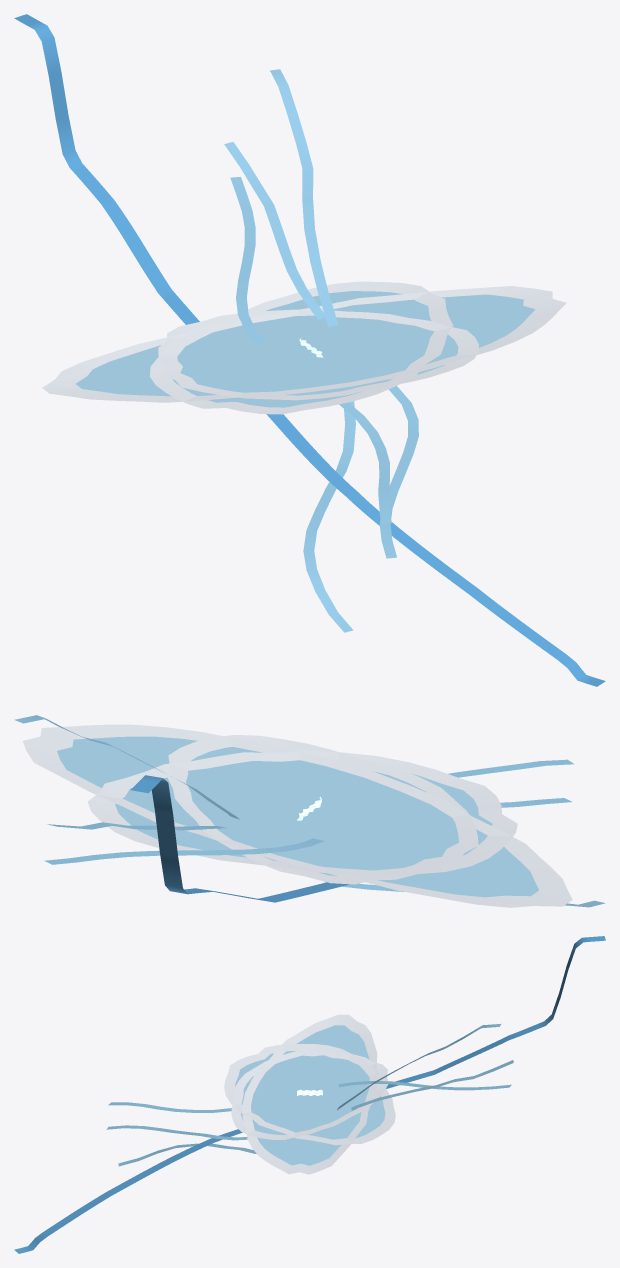
File: SV_FrozenLake.fbx
3 views of the same model, one above another, from view 1: azimuth 30°, elevation 25°; view 2: azimuth 150°, elevation 25°; view 3: azimuth 270°, elevation 25° (orthographic). The views are drawn at different scales.
Visible parts, largest first — view 1: SV_UNQ_FrozenLake_Ice, SV_UNQ_RavineIce_IceDeep, SV_UNQ_PondW_Ice, SV_UNQ_FrozenLake_Snow, SV_UNQ_PondW_Snow, SV_UNQ_CreekIce00_Glacier, SV_UNQ_PondE_Ice, SV_UNQ_PondE_Snow, SV_UNQ_CreekIce01_Glacier, SV_UNQ_CreekIce02_Glacier; view 2: SV_UNQ_FrozenLake_Ice, SV_UNQ_FrozenLake_Snow, SV_UNQ_PondW_Ice, SV_UNQ_PondE_Ice, SV_UNQ_PondW_Snow, SV_UNQ_PondE_Snow, SV_UNQ_RavineIce_IceDeep, SV_UNQ_CreekIce02_Glacier, SV_UNQ_CreekIce01_Glacier, SV_UNQ_CreekIce00_Glacier; view 3: SV_UNQ_FrozenLake_Ice, SV_UNQ_PondW_Ice, SV_UNQ_FrozenLake_Snow, SV_UNQ_PondE_Ice, SV_UNQ_RavineIce_IceDeep, SV_UNQ_PondW_Snow, SV_UNQ_PondE_Snow, SV_UNQ_CreekIce01_Glacier, SV_UNQ_CreekIce02_Glacier, SV_UNQ_CreekIce00_Glacier.
Part boxes in pixels (bbox=[...]): SV_UNQ_FrozenLake_Ice: bbox=[76, 294, 535, 396]; SV_UNQ_RavineIce_IceDeep: bbox=[14, 14, 605, 686]; SV_UNQ_PondW_Ice: bbox=[173, 291, 432, 407]; SV_UNQ_FrozenLake_Snow: bbox=[42, 286, 566, 402]; SV_UNQ_PondW_Snow: bbox=[149, 281, 453, 414]; SV_UNQ_CreekIce00_Glacier: bbox=[270, 69, 355, 632]; SV_UNQ_PondE_Ice: bbox=[181, 317, 458, 395]; SV_UNQ_PondE_Snow: bbox=[158, 309, 478, 400]; SV_UNQ_CreekIce01_Glacier: bbox=[224, 142, 418, 558]; SV_UNQ_CreekIce02_Glacier: bbox=[230, 177, 391, 523]; SV_UNQ_FrozenLake_Ice: bbox=[57, 736, 538, 897]; SV_UNQ_FrozenLake_Snow: bbox=[23, 724, 572, 907]; SV_UNQ_PondW_Ice: bbox=[115, 761, 492, 870]; SV_UNQ_PondE_Ice: bbox=[187, 747, 456, 875]; SV_UNQ_PondW_Snow: bbox=[87, 750, 517, 876]; SV_UNQ_PondE_Snow: bbox=[167, 735, 478, 884]; SV_UNQ_RavineIce_IceDeep: bbox=[130, 775, 349, 902]; SV_UNQ_CreekIce02_Glacier: bbox=[44, 759, 574, 864]; SV_UNQ_CreekIce01_Glacier: bbox=[47, 798, 571, 830]; SV_UNQ_CreekIce00_Glacier: bbox=[14, 715, 605, 907]; SV_UNQ_FrozenLake_Ice: bbox=[251, 1025, 369, 1165]; SV_UNQ_PondW_Ice: bbox=[235, 1051, 385, 1139]; SV_UNQ_FrozenLake_Snow: bbox=[242, 1014, 377, 1174]; SV_UNQ_PondE_Ice: bbox=[240, 1055, 377, 1134]; SV_UNQ_RavineIce_IceDeep: bbox=[14, 936, 605, 1253]; SV_UNQ_PondW_Snow: bbox=[224, 1044, 395, 1145]; SV_UNQ_PondE_Snow: bbox=[231, 1049, 388, 1139]; SV_UNQ_CreekIce01_Glacier: bbox=[106, 1060, 513, 1140]; SV_UNQ_CreekIce02_Glacier: bbox=[108, 1081, 511, 1112]; SV_UNQ_CreekIce00_Glacier: bbox=[118, 1023, 501, 1166].
Bounding box in the file's own units: 729 × 560 × 1138.
